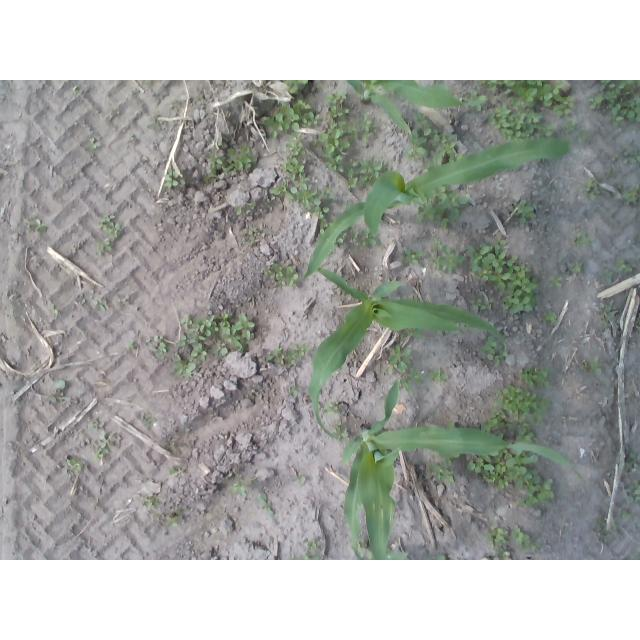Maize: (343, 379, 583, 559), (302, 261, 511, 439), (304, 138, 569, 278), (347, 81, 465, 133)
Weeds: (469, 239, 538, 314), (483, 81, 574, 116), (487, 105, 553, 139), (600, 80, 640, 122), (497, 386, 551, 415), (308, 118, 350, 151), (443, 189, 470, 219), (291, 184, 322, 208), (228, 146, 259, 170), (440, 244, 465, 272), (523, 366, 554, 387), (513, 526, 539, 551), (224, 323, 247, 351), (233, 313, 255, 340), (504, 450, 541, 466), (280, 103, 301, 131), (93, 430, 113, 458), (488, 527, 511, 550), (192, 316, 217, 337), (484, 410, 506, 432), (518, 199, 537, 224), (308, 200, 329, 221), (321, 153, 344, 172), (466, 458, 495, 473), (265, 114, 283, 138), (257, 492, 275, 516), (175, 359, 199, 377), (278, 266, 299, 286), (164, 505, 183, 527), (431, 463, 453, 481), (469, 90, 488, 110), (390, 345, 411, 363), (507, 416, 529, 433), (283, 80, 309, 94), (514, 466, 532, 486), (626, 479, 640, 504), (360, 159, 383, 174), (622, 186, 640, 205), (189, 343, 208, 361), (582, 357, 602, 374), (528, 469, 541, 495), (412, 128, 433, 144), (401, 249, 423, 264), (404, 147, 429, 160), (417, 205, 435, 223), (623, 145, 640, 164), (428, 368, 449, 383), (325, 104, 351, 116), (28, 219, 48, 234), (433, 130, 456, 143), (586, 179, 600, 200), (302, 112, 319, 129), (362, 231, 379, 248), (577, 232, 596, 247), (215, 311, 234, 326), (286, 158, 306, 172), (286, 142, 307, 155), (515, 431, 536, 444), (150, 342, 166, 359), (266, 348, 283, 364), (205, 165, 220, 183), (625, 453, 640, 471), (142, 496, 160, 511), (358, 114, 372, 133), (267, 181, 286, 195), (188, 327, 205, 342), (267, 264, 285, 278), (430, 149, 446, 164), (205, 153, 225, 165), (114, 295, 130, 310), (230, 485, 248, 498), (439, 456, 462, 466), (296, 345, 311, 360), (163, 175, 179, 189), (482, 336, 498, 350), (408, 369, 424, 383), (142, 414, 158, 428), (284, 348, 297, 365), (436, 143, 456, 154), (293, 100, 311, 112), (346, 169, 358, 187), (435, 203, 447, 221), (322, 402, 340, 414), (45, 391, 63, 403), (110, 223, 124, 238), (589, 95, 603, 110), (503, 471, 518, 485), (613, 109, 624, 127), (97, 238, 112, 251), (399, 379, 414, 392), (69, 459, 86, 470), (544, 312, 558, 325), (433, 187, 447, 200), (541, 478, 555, 491), (93, 300, 107, 313), (286, 131, 304, 141), (394, 361, 409, 373), (168, 464, 188, 473), (565, 116, 576, 132), (600, 301, 616, 312), (482, 471, 499, 481), (537, 489, 554, 499), (416, 111, 428, 125), (548, 276, 562, 288), (181, 313, 192, 328), (99, 223, 115, 233), (302, 538, 318, 548), (346, 122, 358, 135), (321, 188, 333, 201), (496, 458, 508, 471), (247, 385, 261, 396), (430, 255, 440, 270), (348, 158, 360, 170), (284, 190, 296, 201), (576, 131, 588, 142), (509, 98, 520, 110), (599, 313, 610, 325), (526, 495, 538, 506), (450, 152, 463, 162), (291, 556, 322, 560), (326, 93, 337, 104), (483, 299, 494, 310), (433, 239, 444, 250), (362, 130, 372, 142), (487, 346, 495, 361), (234, 473, 246, 483), (87, 420, 99, 430), (178, 331, 186, 346), (243, 226, 258, 234), (292, 476, 305, 485), (514, 500, 528, 508), (604, 167, 614, 178), (625, 263, 635, 274), (90, 139, 100, 150), (350, 230, 359, 242), (248, 476, 260, 485), (290, 384, 299, 396), (102, 216, 117, 223), (299, 173, 309, 183), (572, 262, 582, 272), (289, 173, 298, 184), (222, 166, 233, 175), (534, 414, 543, 425), (214, 139, 222, 151), (244, 237, 256, 245), (427, 556, 446, 561), (336, 92, 346, 101), (359, 176, 369, 185), (621, 510, 631, 519), (412, 327, 421, 337), (55, 380, 65, 389), (219, 348, 229, 357), (247, 202, 258, 210), (616, 260, 624, 271), (471, 298, 482, 306), (400, 330, 408, 341), (51, 304, 59, 315), (358, 539, 365, 551), (210, 349, 222, 356), (338, 234, 347, 243), (502, 551, 511, 560), (603, 270, 613, 278), (601, 534, 611, 542), (497, 479, 505, 489), (235, 204, 242, 215), (225, 472, 232, 483), (613, 519, 618, 534), (113, 435, 121, 444), (444, 217, 449, 231), (493, 356, 499, 367), (148, 124, 161, 129), (341, 429, 349, 437), (153, 512, 161, 520), (321, 220, 328, 229), (154, 336, 163, 343), (168, 170, 178, 176), (95, 251, 105, 257), (334, 423, 344, 429), (500, 351, 508, 358), (600, 519, 607, 527), (111, 108, 117, 117), (635, 233, 640, 243), (280, 165, 287, 172), (613, 155, 620, 162), (499, 547, 506, 554), (128, 343, 136, 349), (449, 476, 455, 482), (146, 334, 150, 342), (180, 179, 185, 185), (616, 183, 621, 189), (498, 345, 503, 351), (481, 557, 491, 560), (245, 210, 252, 214), (73, 85, 77, 91), (637, 317, 640, 324), (82, 300, 86, 305), (131, 133, 134, 139), (494, 556, 498, 560), (90, 290, 94, 294)
